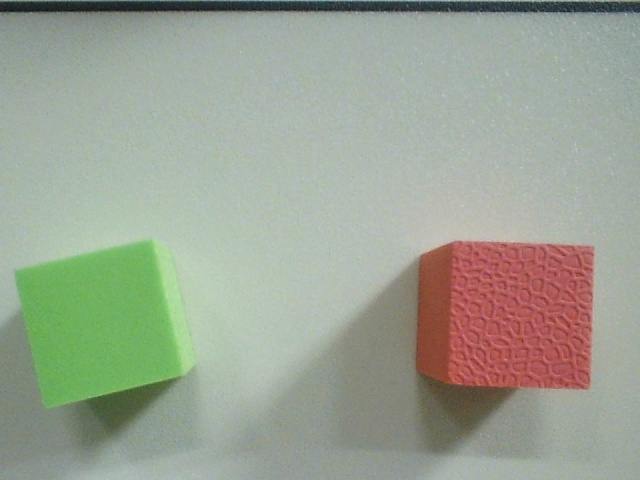greencube: (9, 233, 214, 417)
